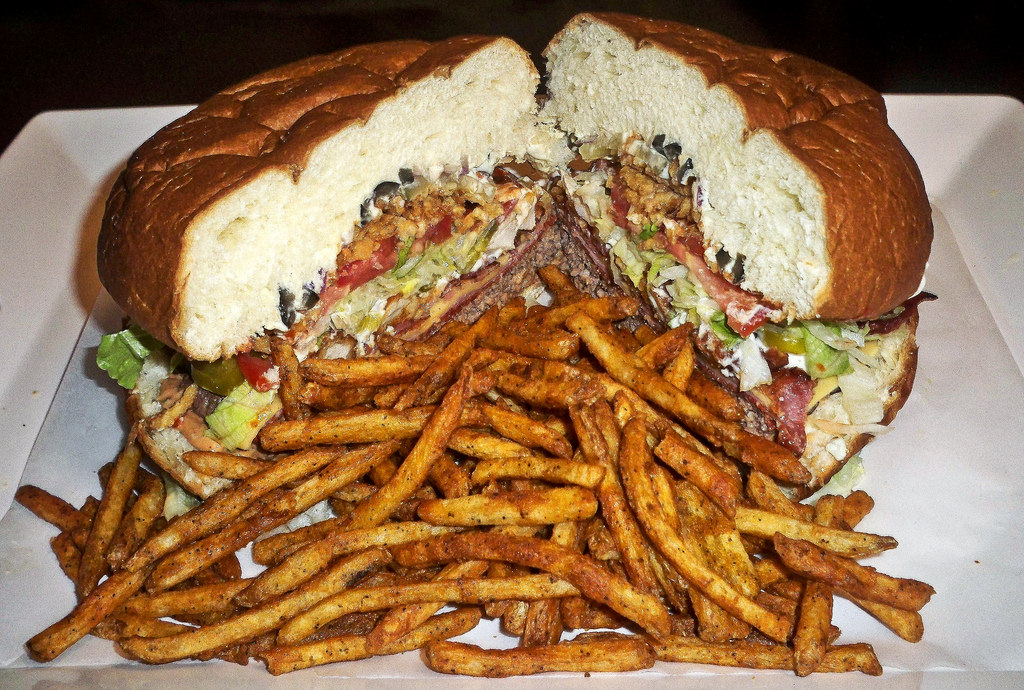slice of bread: (111, 93, 596, 278)
